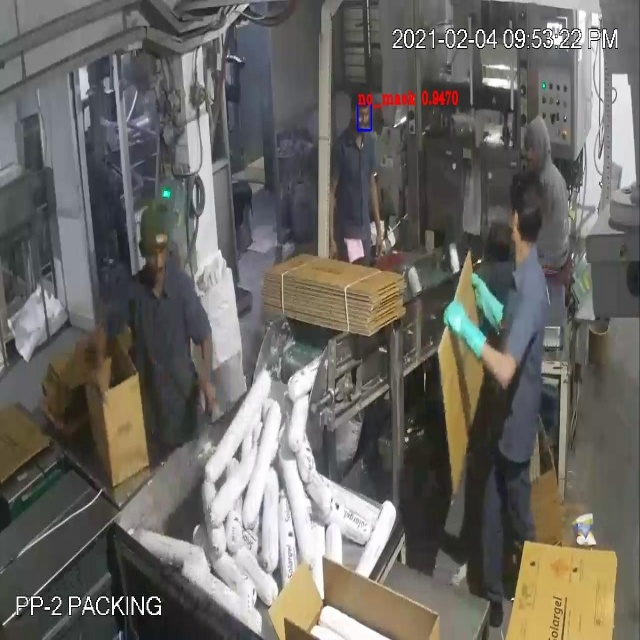Guantes: (441, 280, 493, 378), (471, 268, 511, 340)
Sin_guantes: (86, 298, 121, 393), (320, 152, 345, 272), (365, 159, 392, 270), (197, 323, 220, 420)
